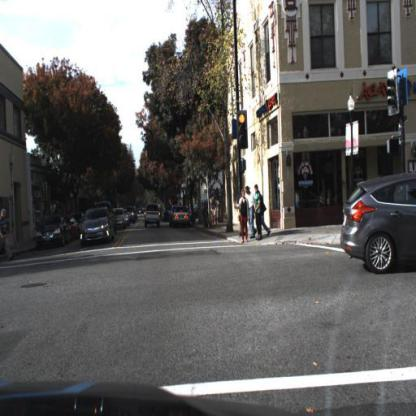car: (343, 173, 416, 276), (32, 208, 72, 253), (80, 208, 115, 247), (36, 215, 68, 250), (169, 203, 193, 231), (144, 202, 162, 231), (172, 205, 192, 229), (117, 209, 126, 230)
pedestrian: (1, 206, 15, 262), (1, 209, 12, 264), (254, 183, 265, 237), (258, 192, 267, 241), (242, 190, 250, 243), (248, 186, 255, 239)
trafficLight: (238, 111, 249, 148)
